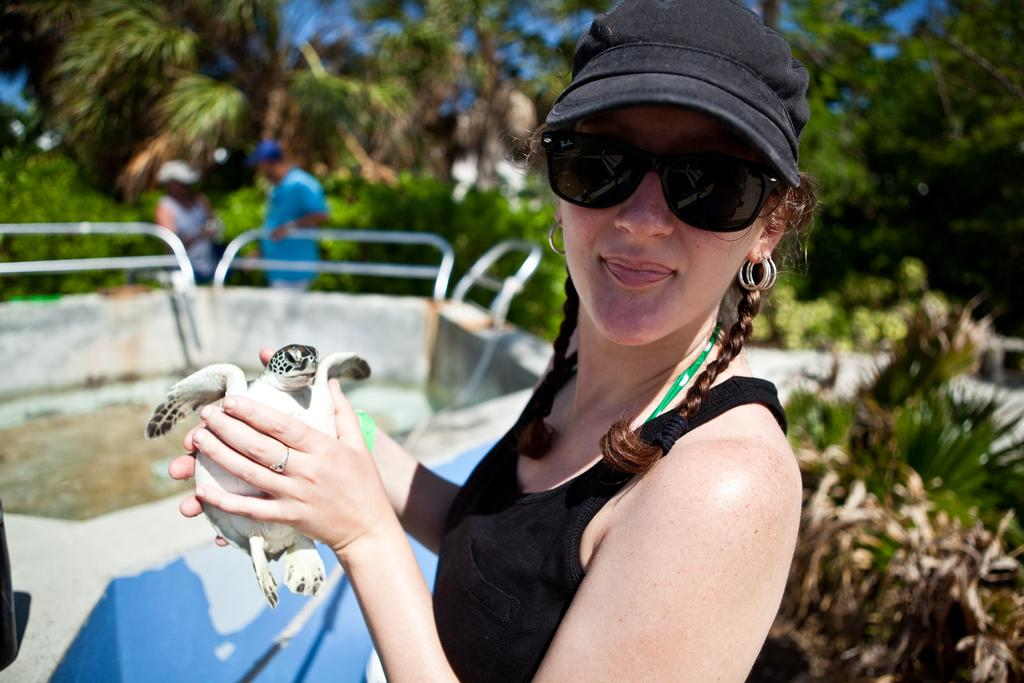Hat: (546, 0, 814, 191), (152, 157, 204, 182), (248, 141, 288, 166)
